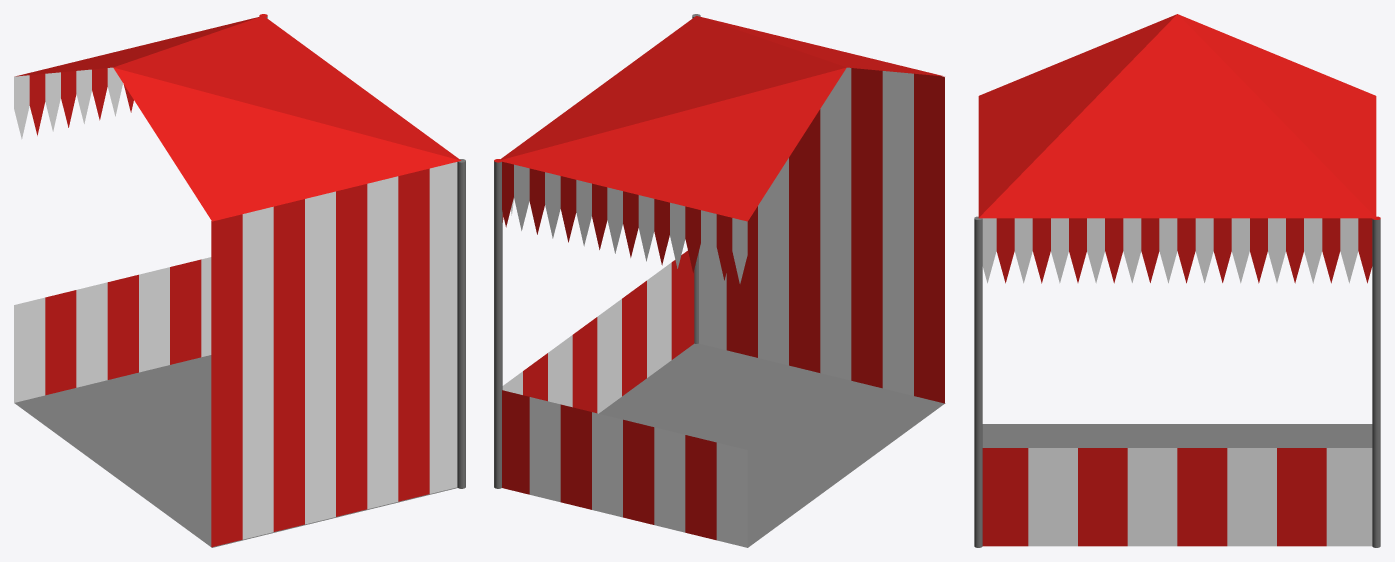
File: Booth.glb
3 views of the same model, side by side, from view 1: azimuth 30°, elevation 25°; view 2: azimuth 150°, elevation 25°; view 3: azimuth 270°, elevation 25° (orthographic).
Parts seen in each view (by area): view 1: Plane.002; view 2: Plane.002; view 3: Plane.002.
Boxes of the visible parts, bbox=[...] form: Plane.002: bbox=[14, 14, 465, 547]; Plane.002: bbox=[494, 14, 945, 547]; Plane.002: bbox=[974, 14, 1380, 547].
Bounding box in the file's own units: 16.23 × 25 × 22.47.
